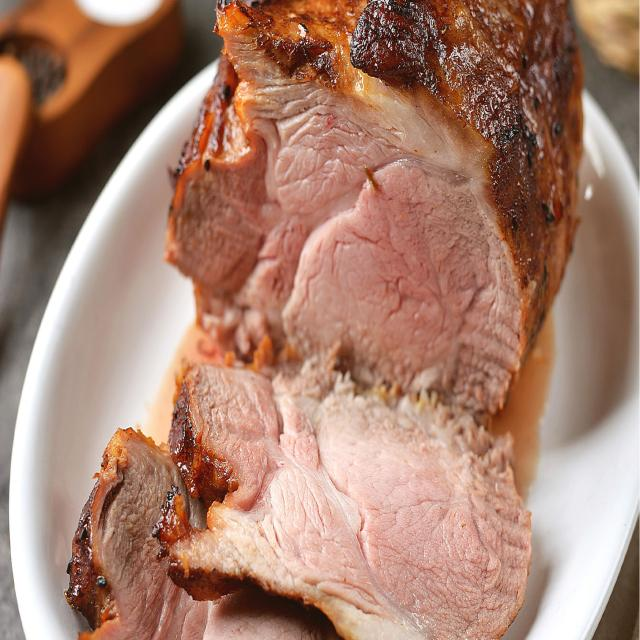carne de res: (59, 4, 624, 637)
